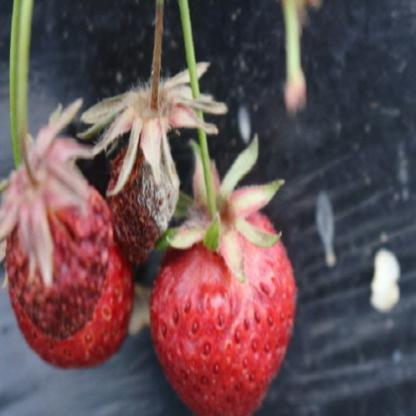Strawberry_Gray_Mold: (104, 88, 220, 266)
